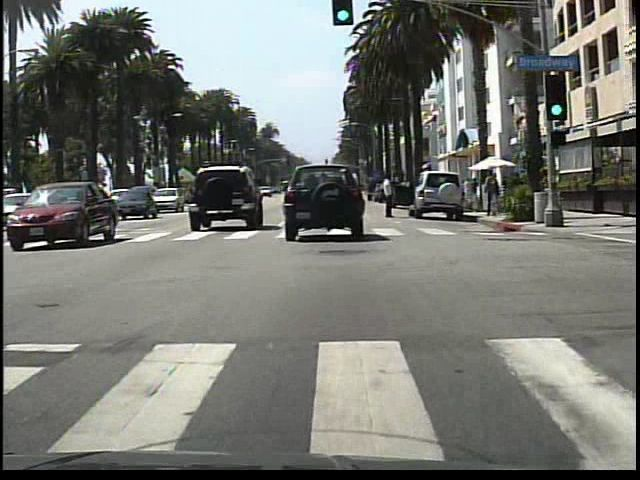person: (378, 168, 401, 222)
